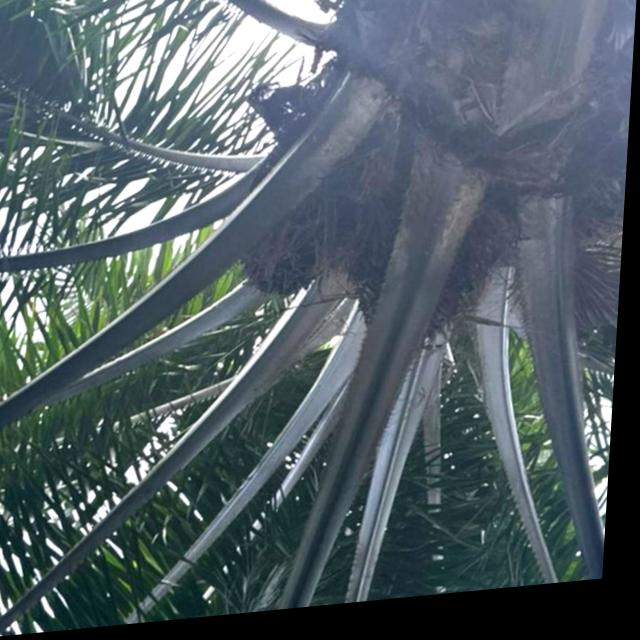unripe: (358, 190, 519, 364), (237, 170, 369, 311)
